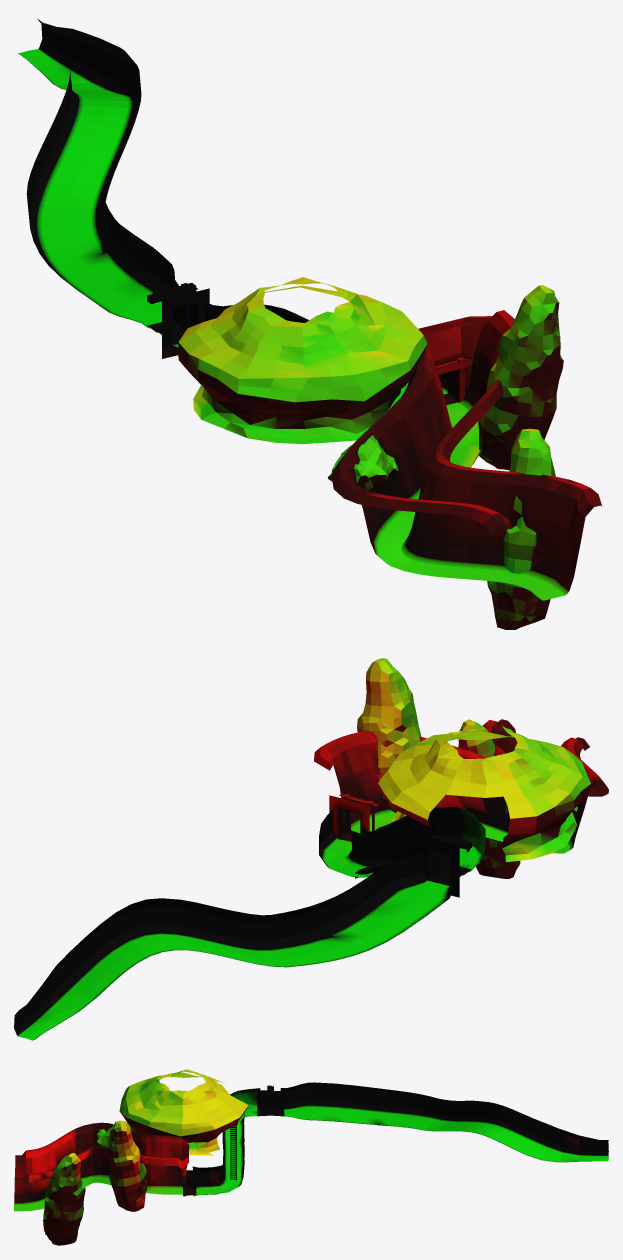
Rendered from entrance_valley.glb.
The picture shows the model from 3 angles, top to bottom: view 1: azimuth 30°, elevation 25°; view 2: azimuth 150°, elevation 25°; view 3: azimuth 270°, elevation 25°; orthographic projection. The views are drawn at different scales.
Visible parts, largest first — view 1: Grassy_Rocks, Valley_Path, Cave, Shaft_Entrance_1; view 2: Cave, Grassy_Rocks, Valley_Path, Shaft_Entrance_1; view 3: Cave, Grassy_Rocks, Valley_Path, Shaft_Entrance_1, Wood_Stair_Steps.
Boxes of the visible parts, bbox=[...] form: Grassy_Rocks: bbox=[178, 277, 563, 629]; Valley_Path: bbox=[331, 310, 602, 600]; Cave: bbox=[18, 18, 448, 394]; Shaft_Entrance_1: bbox=[147, 283, 471, 404]; Cave: bbox=[14, 805, 485, 1040]; Grassy_Rocks: bbox=[357, 658, 590, 878]; Valley_Path: bbox=[314, 719, 608, 853]; Shaft_Entrance_1: bbox=[329, 793, 471, 897]; Cave: bbox=[192, 1082, 608, 1196]; Grassy_Rocks: bbox=[43, 1069, 248, 1245]; Valley_Path: bbox=[14, 1122, 189, 1211]; Shaft_Entrance_1: bbox=[182, 1085, 284, 1196]; Wood_Stair_Steps: bbox=[230, 1125, 236, 1180].
Size of what is drawn, in the model's own units: 27.69 by 23.6 by 88.06.
